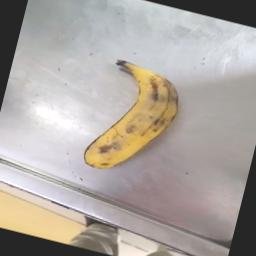Banana Overripe: (70, 48, 195, 188)
